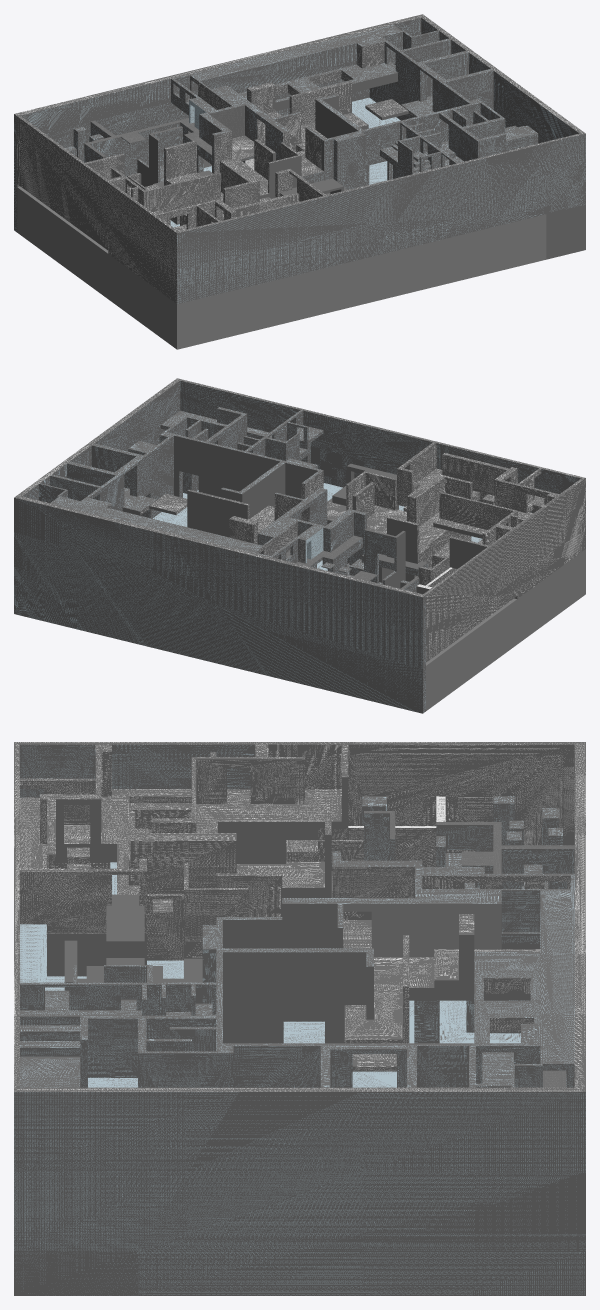
File: labyrinth.glb
3 views of the same model, one above another, from view 1: azimuth 30°, elevation 25°; view 2: azimuth 150°, elevation 25°; view 3: azimuth 270°, elevation 25° (orthographic). The views are drawn at different scales.
Visible parts, largest first — view 1: SketchUp, SketchUp.077, SketchUp.078, SketchUp.006, SketchUp.094, SketchUp.103, SketchUp.014, SketchUp.028, SketchUp.016, SketchUp.012, SketchUp.032; view 2: SketchUp, SketchUp.006, SketchUp.077, SketchUp.008, SketchUp.001, SketchUp.094, SketchUp.103, SketchUp.016, SketchUp.012, SketchUp.032, SketchUp.104; view 3: SketchUp, SketchUp.006, SketchUp.094, SketchUp.101, SketchUp.001, SketchUp.055, SketchUp.012, SketchUp.079, SketchUp.080, SketchUp.103, SketchUp.014, SketchUp.008 (+2 smaller).
Boxes of the visible parts, left/top/right/bottom form: SketchUp: left=14, top=14, right=585, bottom=304; SketchUp.077: left=17, top=186, right=546, bottom=349; SketchUp.078: left=546, top=204, right=585, bottom=259; SketchUp.006: left=275, top=73, right=397, bottom=138; SketchUp.094: left=170, top=97, right=400, bottom=227; SketchUp.103: left=84, top=98, right=211, bottom=156; SketchUp.014: left=260, top=155, right=356, bottom=198; SketchUp.028: left=209, top=105, right=244, bottom=138; SketchUp.016: left=137, top=134, right=157, bottom=186; SketchUp.012: left=254, top=139, right=275, bottom=179; SketchUp.032: left=365, top=99, right=407, bottom=119; SketchUp: left=14, top=378, right=585, bottom=713; SketchUp.006: left=174, top=435, right=355, bottom=537; SketchUp.077: left=426, top=549, right=585, bottom=710; SketchUp.008: left=362, top=518, right=427, bottom=569; SketchUp.001: left=433, top=523, right=486, bottom=568; SketchUp.094: left=152, top=483, right=481, bottom=570; SketchUp.103: left=286, top=535, right=418, bottom=589; SketchUp.016: left=385, top=531, right=405, bottom=588; SketchUp.012: left=353, top=482, right=374, bottom=518; SketchUp.032: left=149, top=494, right=187, bottom=514; SketchUp.104: left=305, top=528, right=323, bottom=563; SketchUp: left=14, top=742, right=585, bottom=1295; SketchUp.006: left=223, top=904, right=530, bottom=1043; SketchUp.094: left=20, top=862, right=520, bottom=1087; SketchUp.101: left=343, top=904, right=501, bottom=956; SketchUp.001: left=218, top=777, right=348, bottom=863; SketchUp.055: left=106, top=894, right=144, bottom=964; SketchUp.012: left=216, top=873, right=282, bottom=916; SketchUp.079: left=47, top=934, right=146, bottom=976; SketchUp.080: left=56, top=799, right=116, bottom=862; SketchUp.103: left=436, top=822, right=574, bottom=1087; SketchUp.014: left=64, top=940, right=202, bottom=1003; SketchUp.008: left=282, top=835, right=332, bottom=897.
Bounding box in the file's own units: 27.46 × 7.47 × 18.98.
